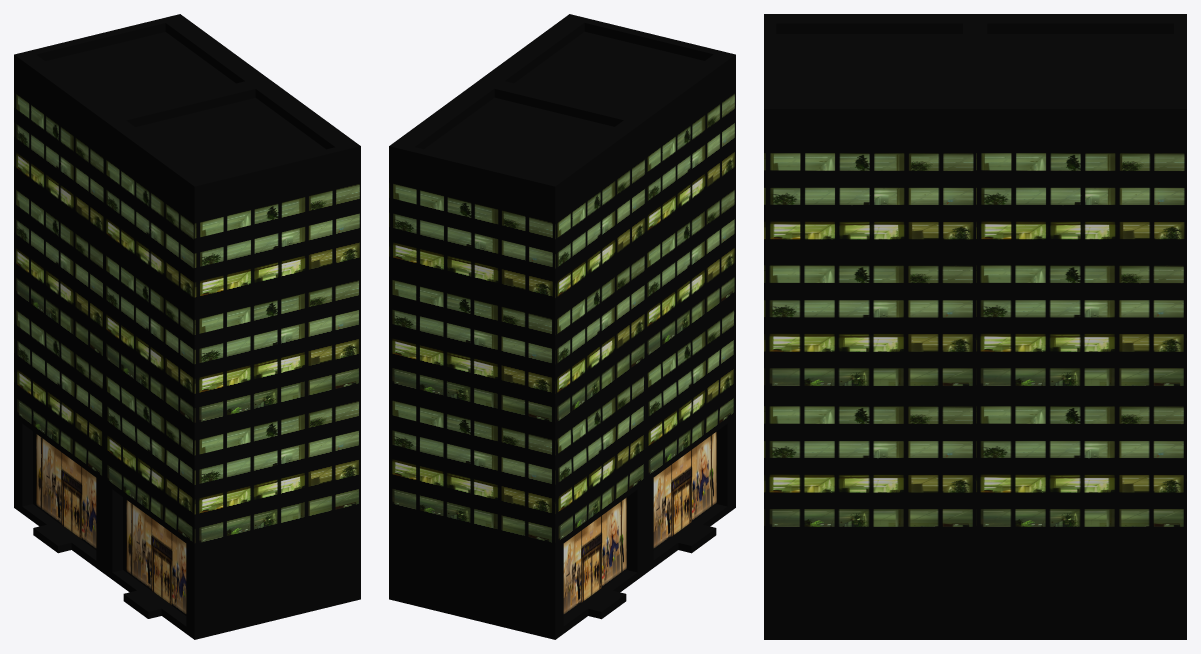
Rendered from building16.FBX.
The picture shows the model from 3 angles, left to right: view 1: azimuth 30°, elevation 25°; view 2: azimuth 150°, elevation 25°; view 3: azimuth 270°, elevation 25°; orthographic projection. The views are drawn at different scales.
Visible parts, largest first — view 1: Box003; view 2: Box003; view 3: Box003.
Boxes of the visible parts, bbox=[...] form: Box003: bbox=[14, 14, 360, 639]; Box003: bbox=[389, 14, 735, 639]; Box003: bbox=[764, 14, 1186, 639].
Bounding box in the file's own units: 64.95 × 156 × 113.
